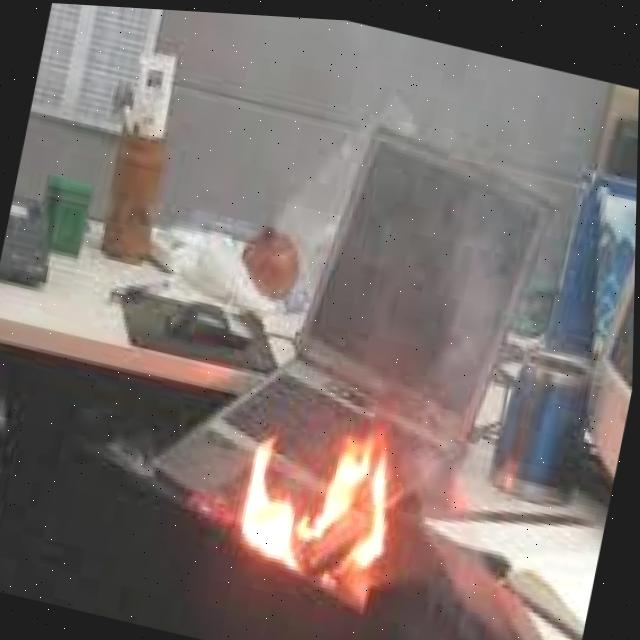fire: (242, 420, 404, 600)
smoke: (362, 196, 623, 640)
